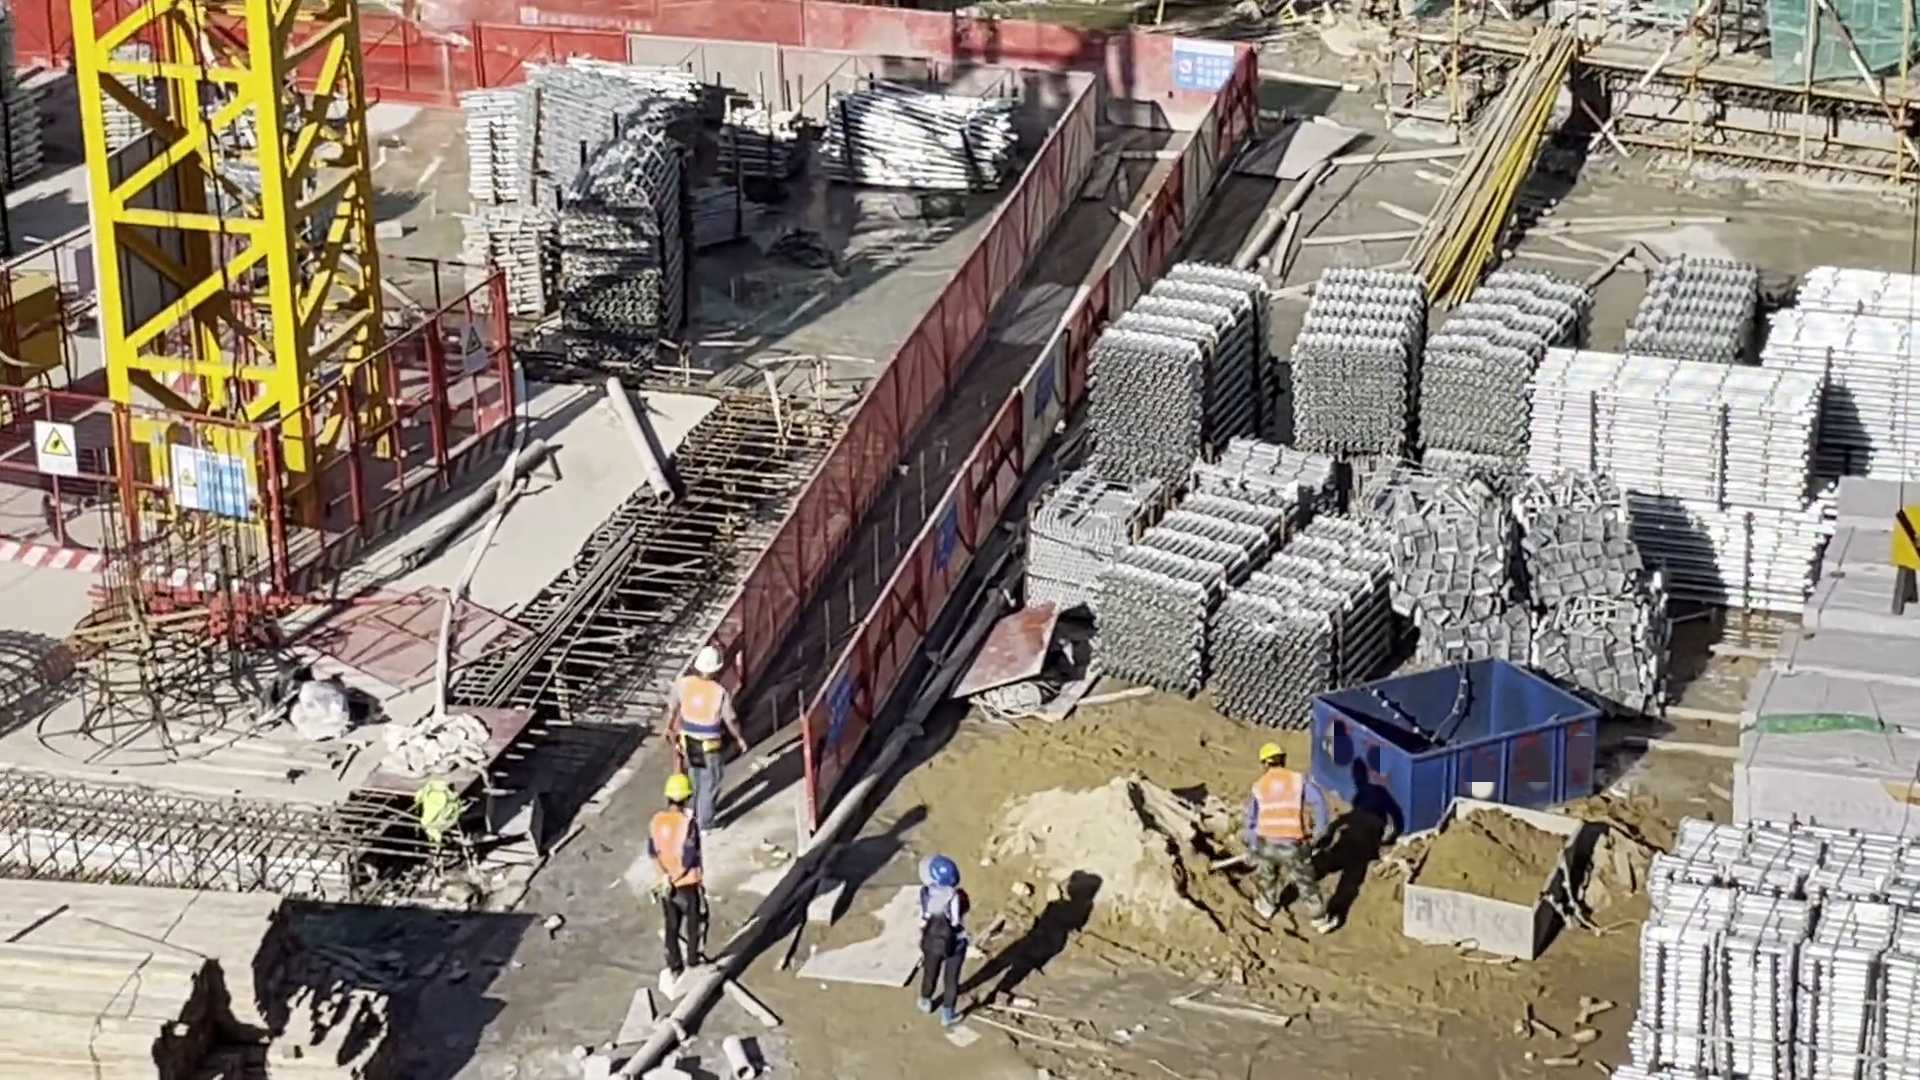fence: (676, 48, 1244, 837)
helmet: (684, 636, 732, 686), (662, 767, 698, 818), (923, 851, 965, 890), (1254, 740, 1290, 763)
hopper: (1310, 642, 1611, 824), (1388, 785, 1558, 952)
person: (1238, 749, 1335, 928), (636, 780, 722, 975), (653, 636, 739, 818), (911, 853, 980, 1028)
scaffold: (1077, 457, 1406, 707), (442, 52, 682, 381), (1626, 809, 1919, 1078), (1530, 341, 1800, 609), (1285, 261, 1582, 473), (1081, 236, 1241, 457), (1791, 254, 1920, 502), (815, 70, 1018, 205), (1616, 237, 1764, 349)
vest: (664, 664, 734, 735), (1245, 769, 1312, 835), (646, 812, 709, 882)
wood: (13, 859, 379, 1080)
